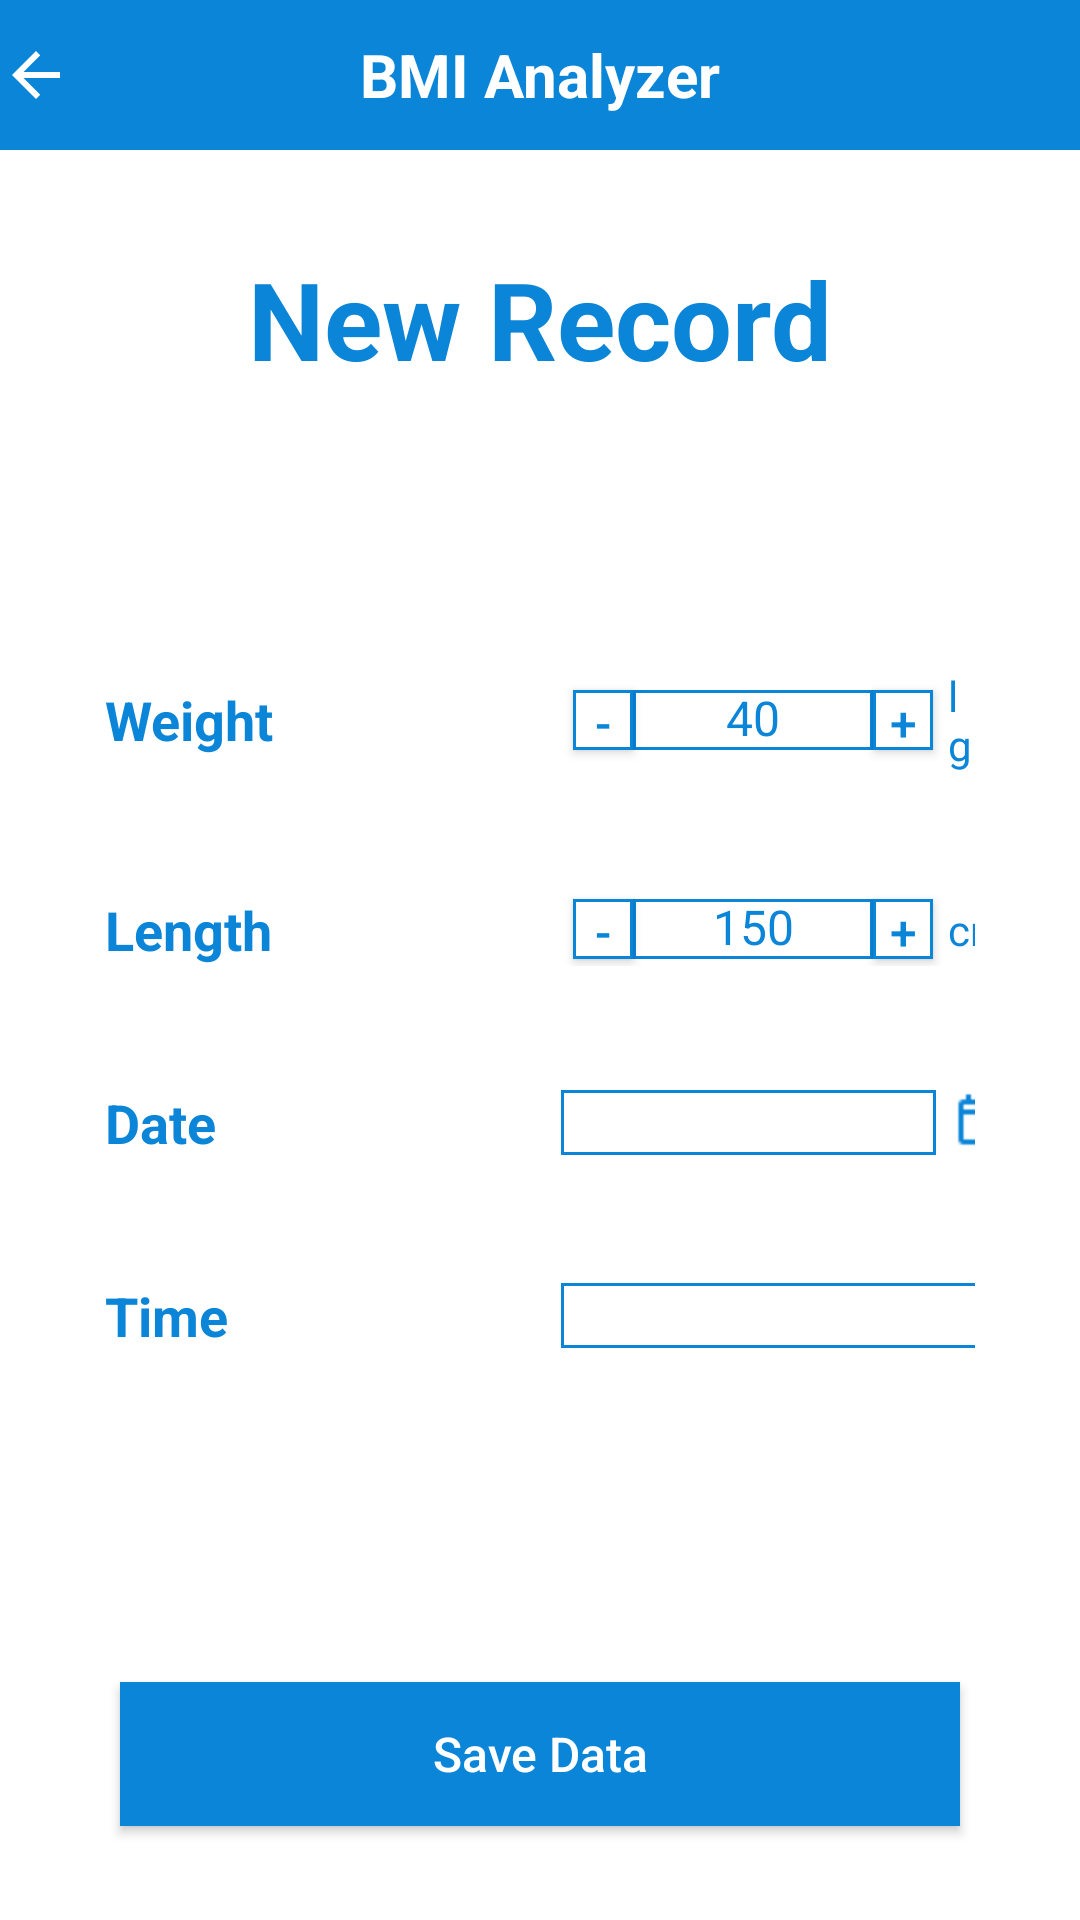

Locate icon controls on the screen. Image size 1080px×1920px, boxes as rect(x1, y1, x2, y2).
back arrow: rect(12, 51, 60, 99)
